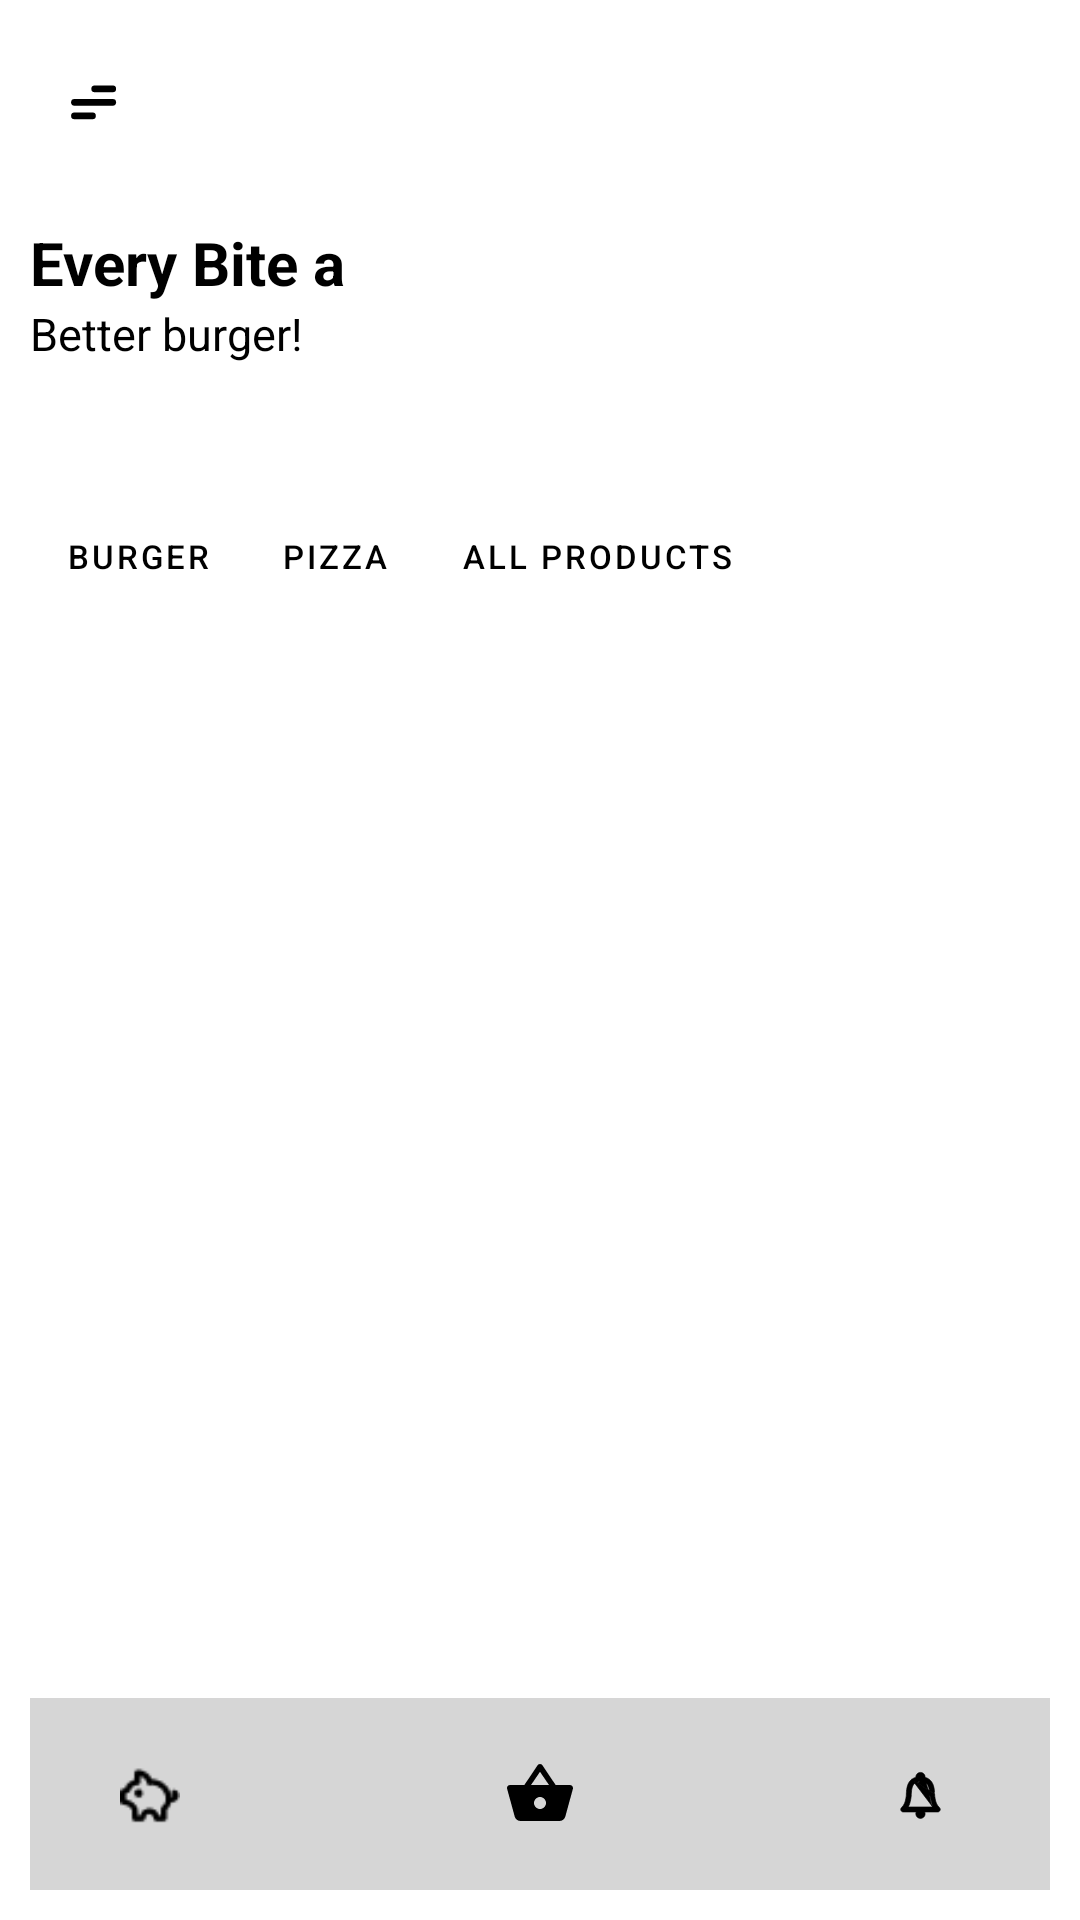

Where icons sit on this 1080w x 1920h app screen, as Rect(x1, y1, x2, y2):
bell: Rect(900, 1772, 941, 1819)
menu: Rect(71, 85, 116, 120)
piggy bank: Rect(120, 1768, 180, 1822)
shopping basket: Rect(507, 1764, 573, 1821)
